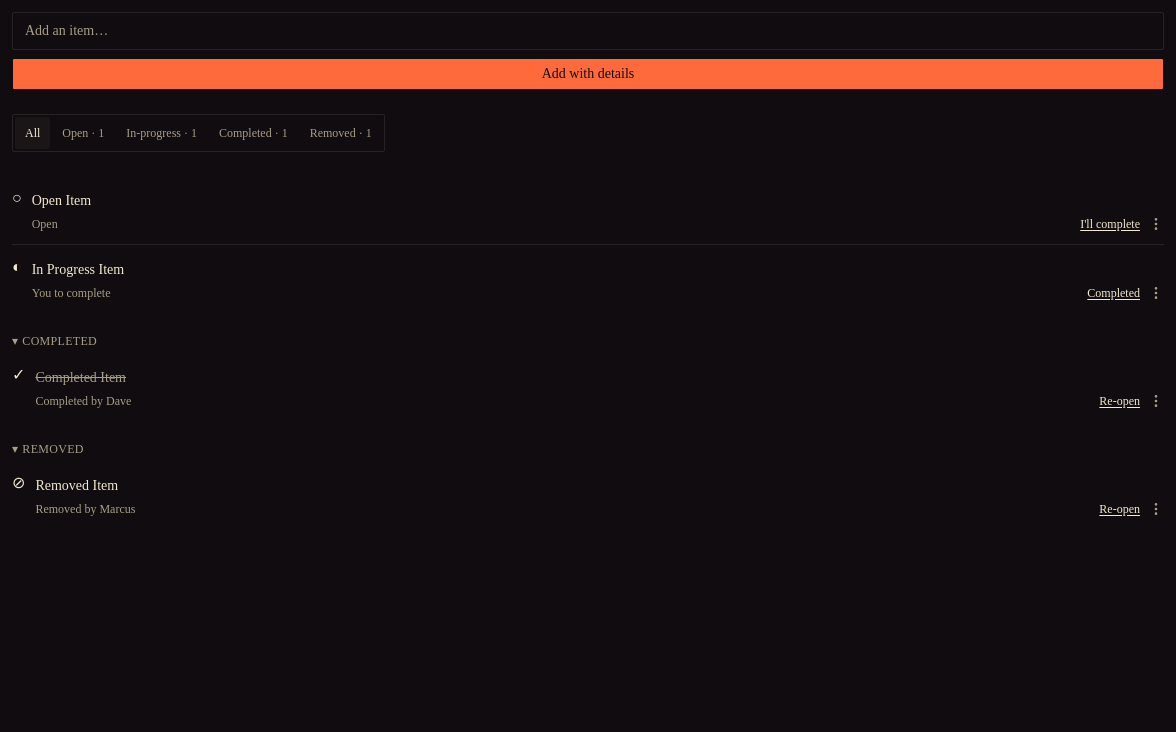
Scenario: <ShoppingList /> › clicking the Completed tab filters to only completed items
What coordinates should you click on to do the following:
click the button "Completed · 1"
I would click on:
 (253, 133)
Its box is [209, 117, 298, 149].
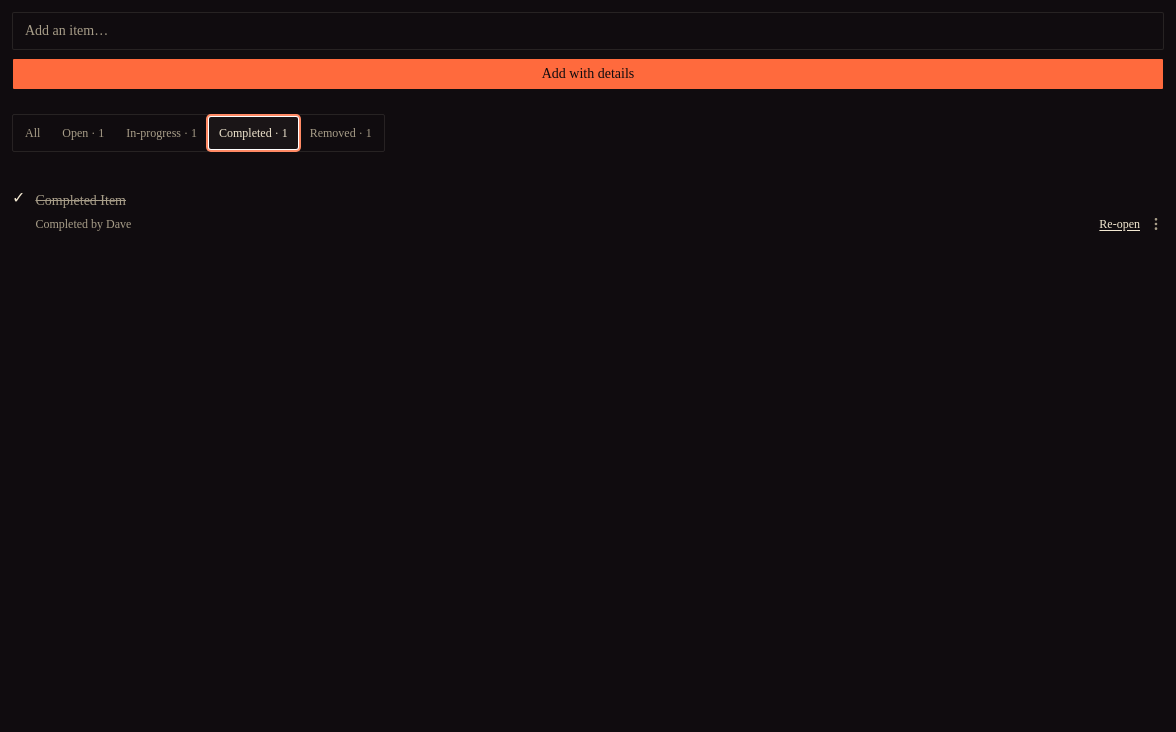
expect the button "Open Item" is gone: met
expect the button "In Progress Item" is gone: met
expect the button "Removed Item" is gone: met
